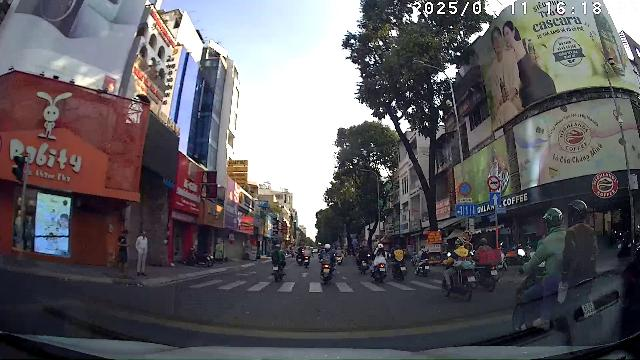131a-cam-do-xe: (459, 182, 472, 196)
